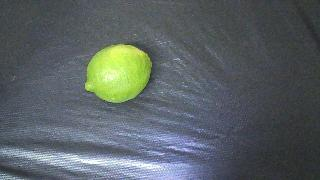LOCAL: (85, 44, 152, 103)
